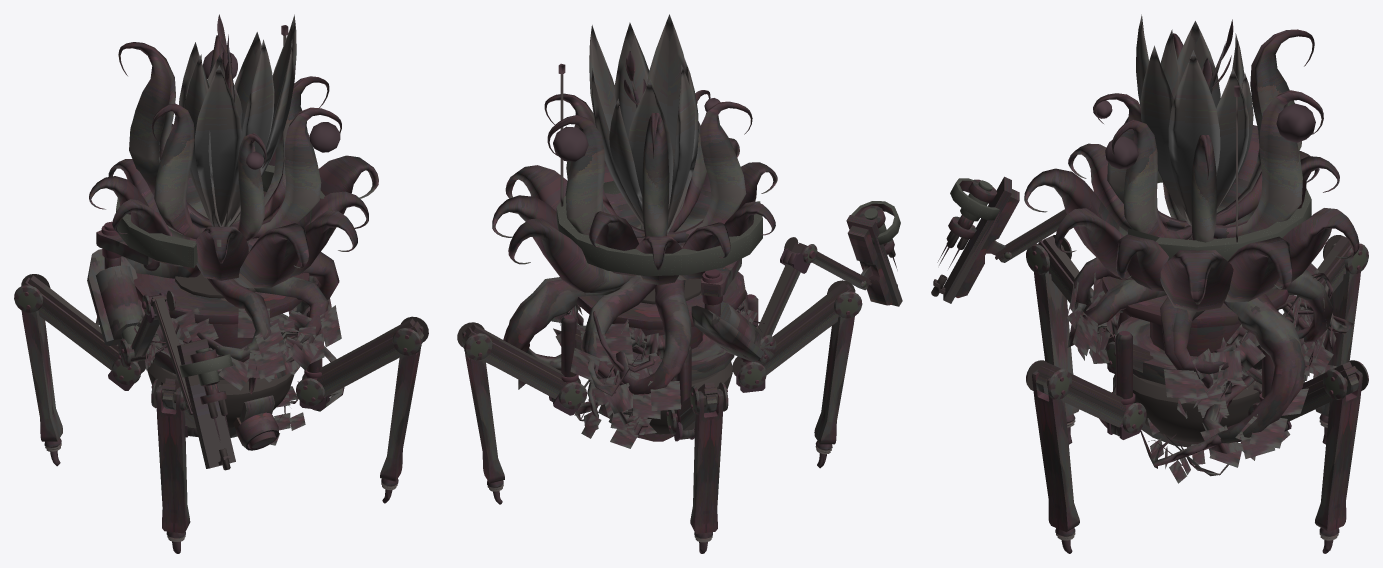
Rendered from rex-original.glb.
3 renders of one model, left to right at view 1: azimuth 30°, elevation 25°; view 2: azimuth 150°, elevation 25°; view 3: azimuth 270°, elevation 25°, orthographic. The views are drawn at different scales.
Parts seen in each view (by area): view 1: mdlTreebot; view 2: mdlTreebot; view 3: mdlTreebot.
Part boxes in pixels (bbox=[...]): mdlTreebot: bbox=[14, 14, 428, 553]; mdlTreebot: bbox=[457, 14, 902, 553]; mdlTreebot: bbox=[931, 14, 1368, 553].
Bounding box in the file's own units: 2.87 × 4.27 × 3.43.
1 material, 1 textured.
